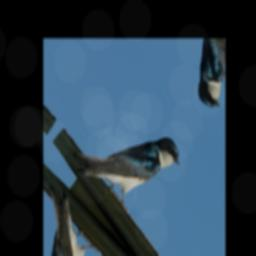Swallow: (66, 78, 186, 236)
